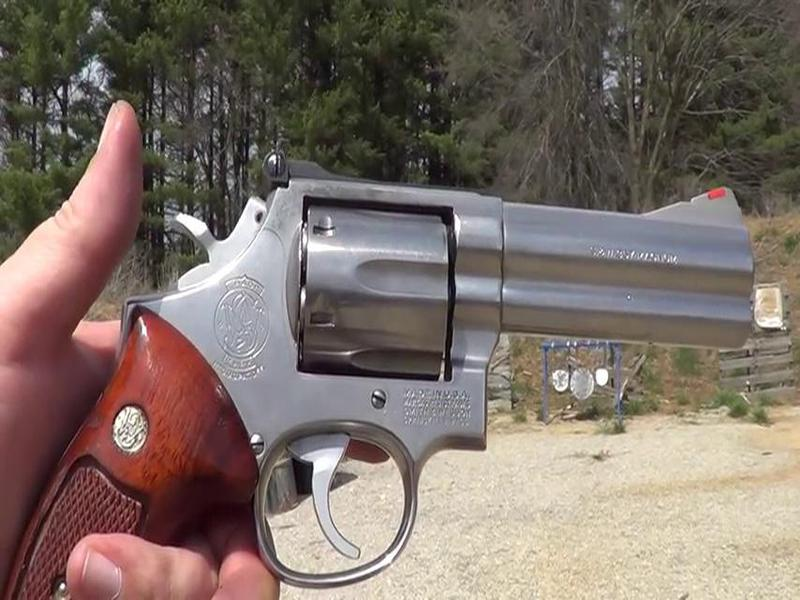Revolver: (31, 149, 780, 593)
